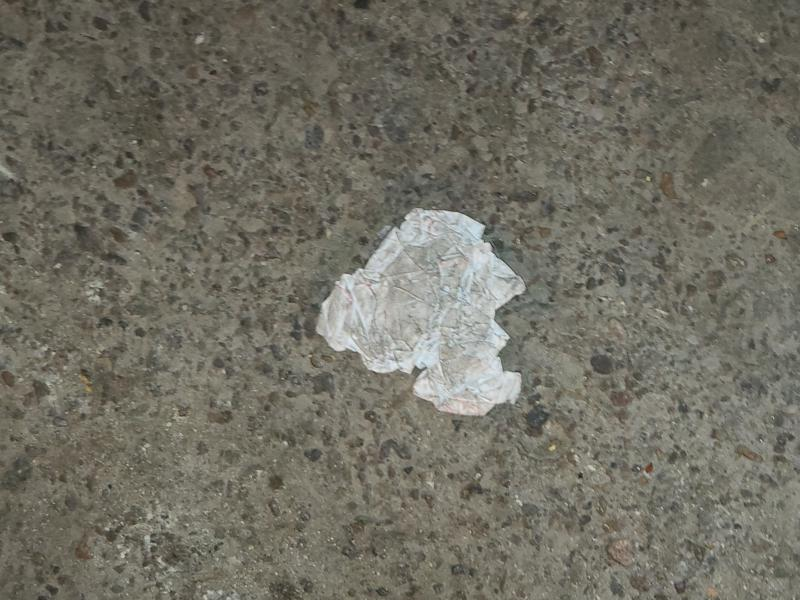papel: (316, 209, 527, 419)
